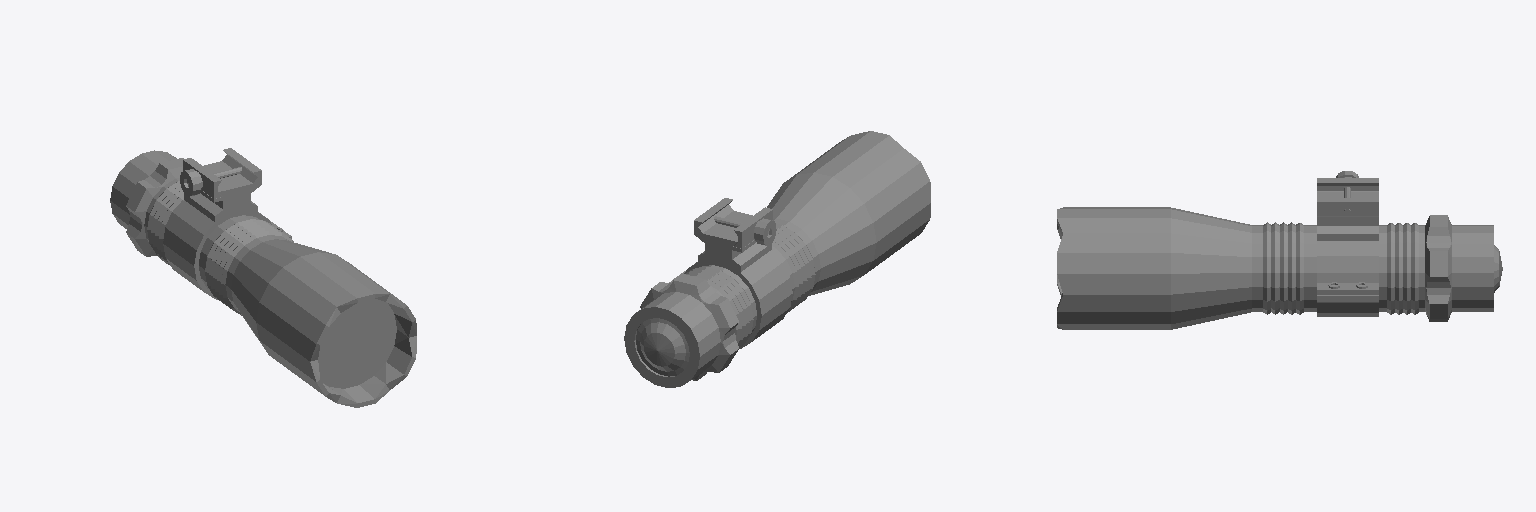
The model's file is hell_flash.obj.
The picture shows the model from 3 angles: view 1: azimuth 30°, elevation 25°; view 2: azimuth 150°, elevation 25°; view 3: azimuth 270°, elevation 25°; orthographic projection.
Visible parts, largest first — view 1: hell_flash; view 2: hell_flash; view 3: hell_flash.
Boxes of the visible parts, x1=… form: hell_flash: x1=110, y1=148, x2=416, y2=407; hell_flash: x1=624, y1=131, x2=930, y2=387; hell_flash: x1=1057, y1=171, x2=1502, y2=329.
Size of the model in its own units: 5.4 by 6.47 by 19.22.